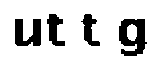g: (114, 13, 150, 60)
t: (76, 5, 105, 48), (45, 12, 69, 49)
u: (12, 16, 41, 50)
